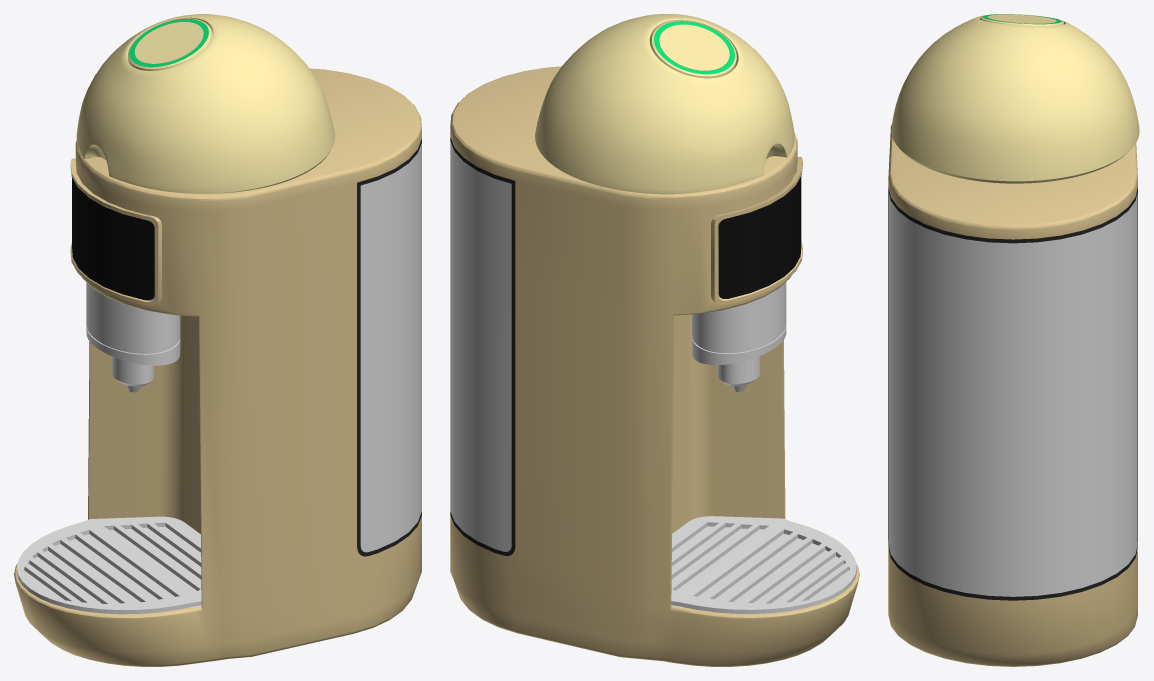
The picture shows the model from 3 angles, left to right: view 1: azimuth 30°, elevation 25°; view 2: azimuth 150°, elevation 25°; view 3: azimuth 270°, elevation 25°; orthographic projection. The views are drawn at different scales.
Visible parts, largest first — view 1: Cylinder, Sphere, Cylinder.001, Cylinder.002, Cylinder.004, Cylinder.003; view 2: Cylinder, Sphere, Cylinder.001, Cylinder.002, Cylinder.004, Cylinder.003; view 3: Cylinder.001, Sphere, Cylinder.
Boxes of the visible parts, x1=… form: Cylinder: x1=14, y1=68, x2=421, y2=666; Sphere: x1=76, y1=14, x2=334, y2=193; Cylinder.001: x1=357, y1=139, x2=421, y2=556; Cylinder.002: x1=17, y1=516, x2=201, y2=614; Cylinder.004: x1=86, y1=282, x2=180, y2=392; Cylinder.003: x1=29, y1=526, x2=201, y2=607; Cylinder: x1=450, y1=66, x2=859, y2=666; Sphere: x1=535, y1=14, x2=794, y2=194; Cylinder.001: x1=450, y1=137, x2=515, y2=556; Cylinder.002: x1=671, y1=516, x2=856, y2=613; Cylinder.004: x1=692, y1=282, x2=786, y2=391; Cylinder.003: x1=671, y1=526, x2=843, y2=607; Cylinder.001: x1=888, y1=187, x2=1137, y2=600; Sphere: x1=891, y1=14, x2=1139, y2=183; Cylinder: x1=888, y1=124, x2=1137, y2=666.
Bounding box in the file's own units: 95.17 × 140 × 57.29.
